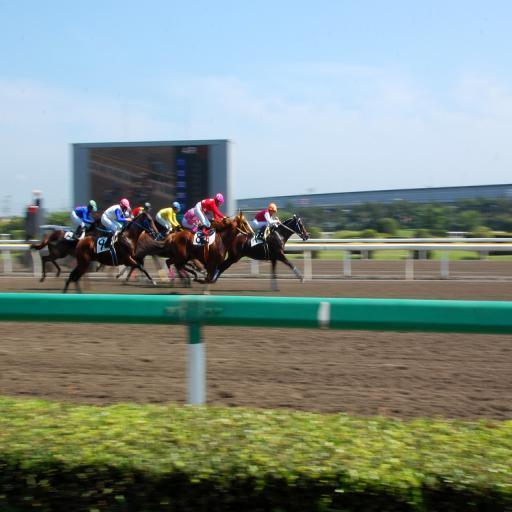horse: (29, 210, 309, 293)
